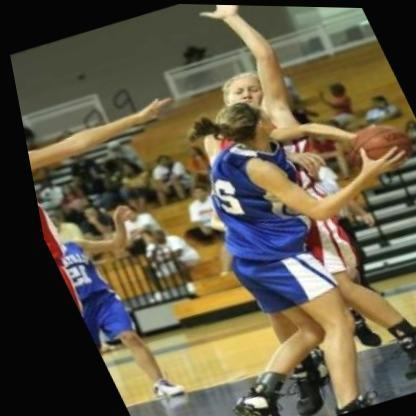basketball: (330, 108, 416, 176)
